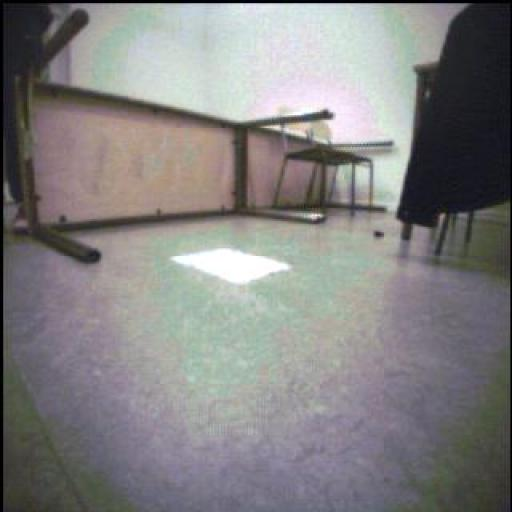Pad: (176, 235, 295, 294)
